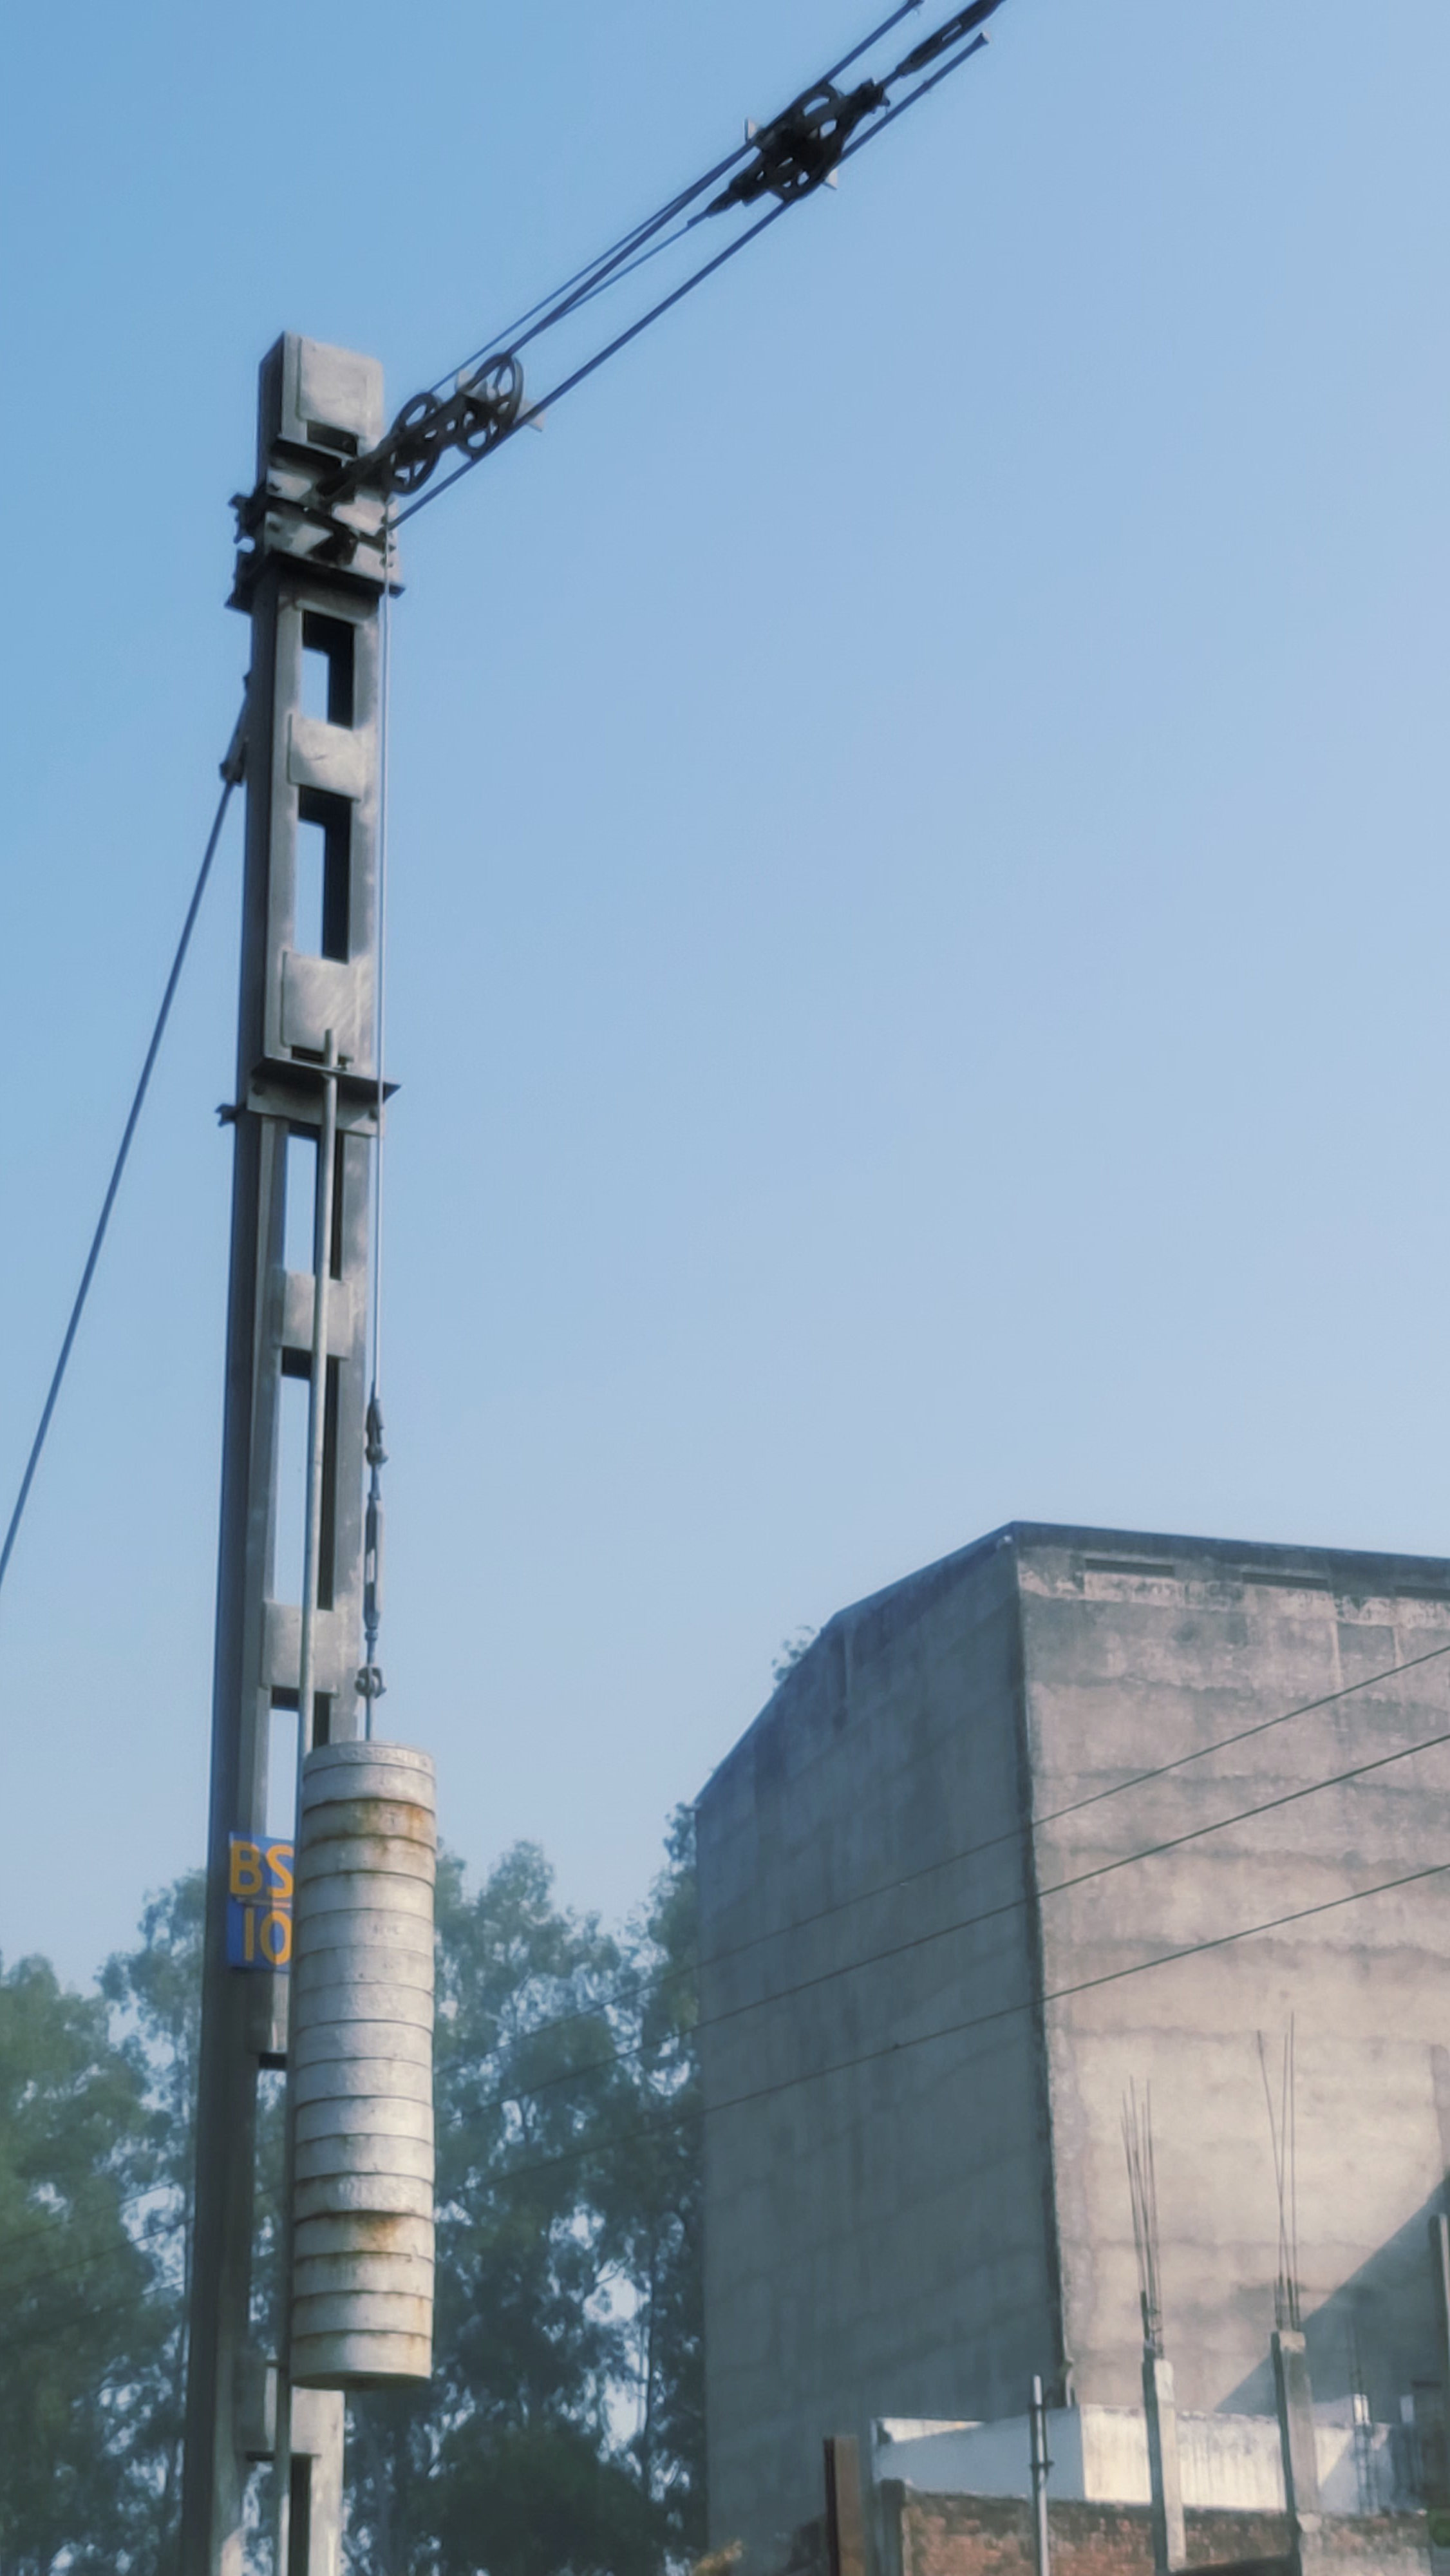counter weight: (297, 1700, 465, 2390)
pulley: (750, 78, 865, 193), (447, 364, 561, 453), (375, 375, 451, 483)
